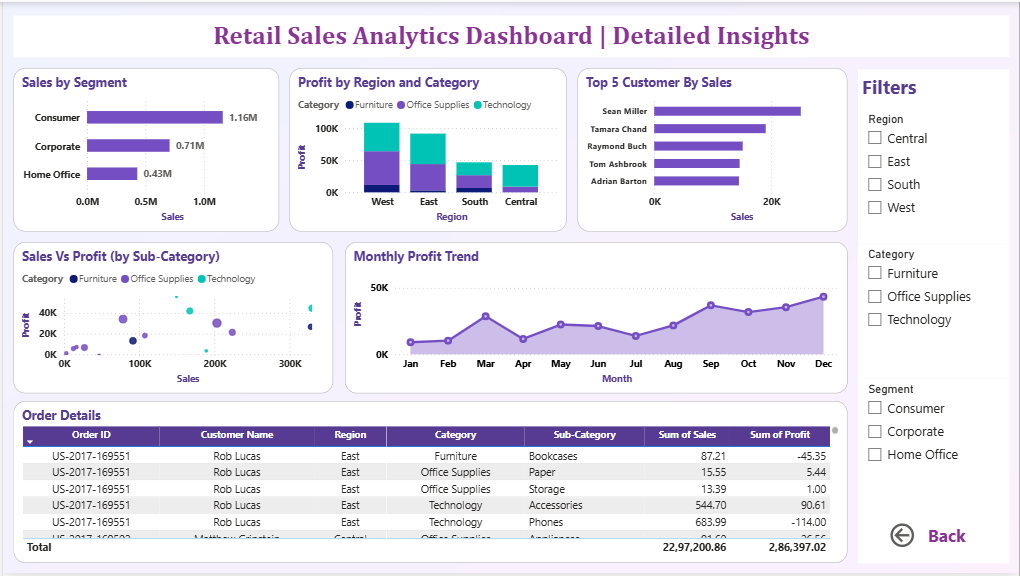

The dashboard page shown, as its layout file describes it:
{"tool":"powerbi","page":{"name":"Detailed Insights","canvas":[1280,720],"ordinal":1},"visuals":[{"type":"textbox","box":[13.2,17,1254.8,52.9],"z":0},{"type":"clusteredBarChart","fields":{"Y":["Sum(cleaned_sales.Sales)"],"Category":["cleaned_sales.Segment"]},"box":[13.2,83.2,334.5,206],"z":1000},{"type":"columnChart","fields":{"Category":["cleaned_sales.Region"],"Series":["cleaned_sales.Category"],"Y":["Sum(cleaned_sales.Profit)"]},"box":[360.9,83.2,349.6,206],"z":2000},{"type":"clusteredBarChart","fields":{"Y":["Sum(cleaned_sales.Sales)"],"Category":["cleaned_sales.Customer Name"]},"box":[723.8,83.2,340.2,206],"z":3000},{"type":"lineChart","fields":{"Category":["cleaned_sales.Month Short"],"Y":["Sum(cleaned_sales.Profit)"]},"box":[430.9,302.4,633.1,190.9],"z":4000},{"type":"scatterChart","fields":{"Category":["cleaned_sales.Sub-Category"],"X":["Sum(cleaned_sales.Profit)"]},"box":[13.2,302.4,402.5,190.9],"z":5000},{"type":"tableEx","fields":{"Values":["cleaned_sales.Order ID","cleaned_sales.Customer Name","cleaned_sales.Region","cleaned_sales.Category","cleaned_sales.Sub-Category","Sum(cleaned_sales.Sales)","Sum(cleaned_sales.Profit)"]},"box":[13.2,502.7,1050.7,204.1],"z":6000},{"type":"slicer","fields":{"Values":["cleaned_sales.Region"]},"box":[1077.2,134.2,190.9,170.1],"z":6001},{"type":"slicer","fields":{"Values":["cleaned_sales.Category"]},"box":[1077.2,304.3,190.9,170.1],"z":6002},{"type":"slicer","fields":{"Values":["cleaned_sales.Segment"]},"box":[1077.2,474.3,190.9,232.4],"z":6003},{"type":"textbox","box":[1077.2,85,190.9,49.1],"z":6004}]}

Visuals, with their boxes in screenshot pixels (x1, y1, x2, y2), scaled from the page's 1280x720 canvas onto the 1020x576 screenshot:
textbox: [11,14,1010,56]
clusteredBarChart - Sum(cleaned_sales.Sales) x cleaned_sales.Segment: [11,67,277,231]
columnChart - cleaned_sales.Region x cleaned_sales.Category: [288,67,566,231]
clusteredBarChart - Sum(cleaned_sales.Sales) x cleaned_sales.Customer Name: [577,67,848,231]
lineChart - cleaned_sales.Month Short x Sum(cleaned_sales.Profit): [343,242,848,395]
scatterChart - cleaned_sales.Sub-Category x Sum(cleaned_sales.Profit): [11,242,331,395]
tableEx - cleaned_sales.Order ID x cleaned_sales.Customer Name: [11,402,848,565]
slicer - cleaned_sales.Region: [858,107,1011,243]
slicer - cleaned_sales.Category: [858,243,1011,380]
slicer - cleaned_sales.Segment: [858,379,1011,565]
textbox: [858,68,1011,107]
